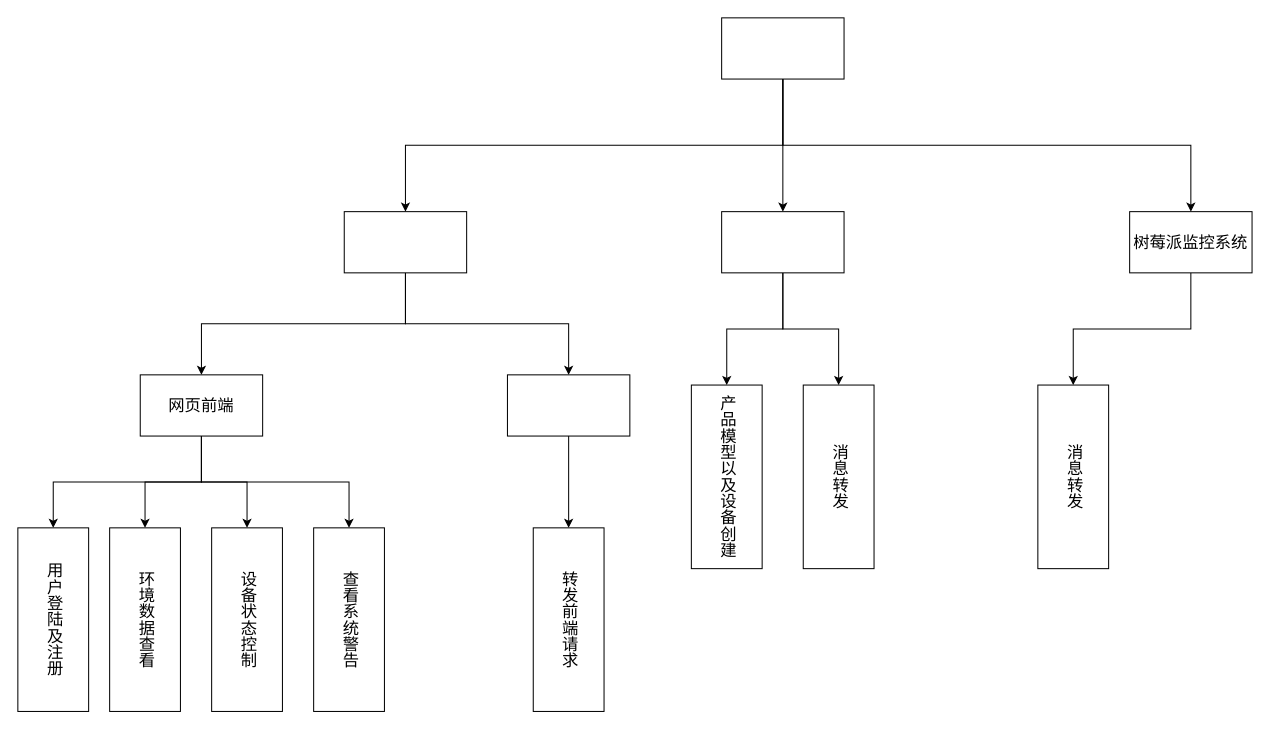
This 1270x729 diagram has some shape labels left out. The centre of each missing label's shape, as x and y in pixels:
"华为云平台" belongs at (x=782, y=242).
"物联网鸡舍系统" belongs at (x=782, y=48).
"系统展示网页" belongs at (x=405, y=242).
"网页后端" belongs at (x=568, y=405).
